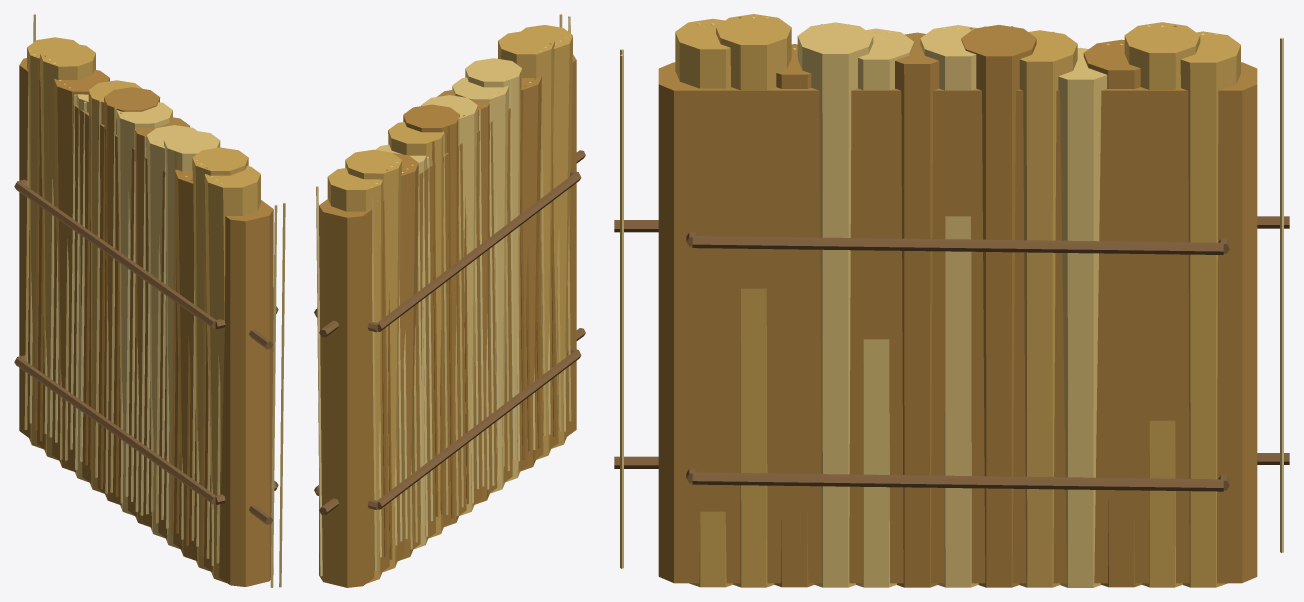
File: straw_left.glb
3 views of the same model, side by side, from view 1: azimuth 30°, elevation 25°; view 2: azimuth 150°, elevation 25°; view 3: azimuth 270°, elevation 25° (orthographic). The views are drawn at different scales.
Parts seen in each view (by area): view 1: straw_left; view 2: straw_left; view 3: straw_left.
Boxes of the visible parts, x1,y1,x2,y2 form: straw_left: (14, 14, 285, 587); straw_left: (314, 14, 585, 587); straw_left: (614, 14, 1289, 587).
Size of the model in its own units: 0.068 by 0.3899 by 0.44.
